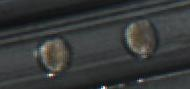joints: (35, 34, 75, 77), (122, 16, 160, 58)
